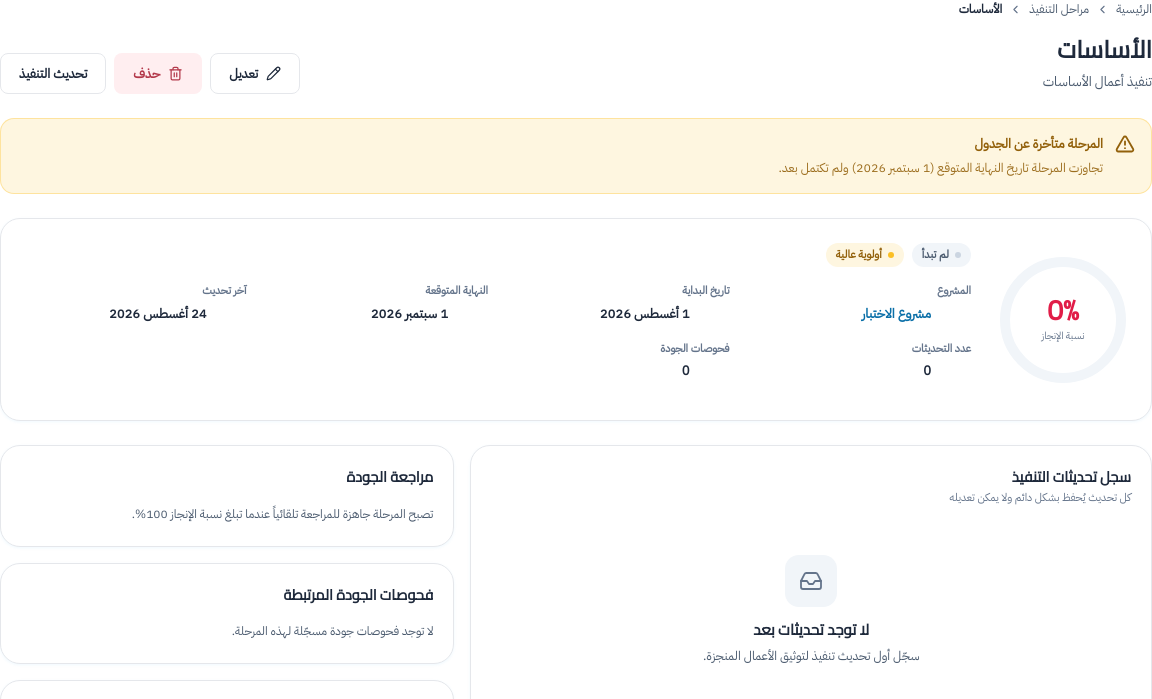
Test: StageDetailPage lifecycle controls › uses the parent project start date as the edit date lower boundary
The image size is (1152, 699).
Click the button "تعديل". click: [255, 74]
box: [210,53,300,94]
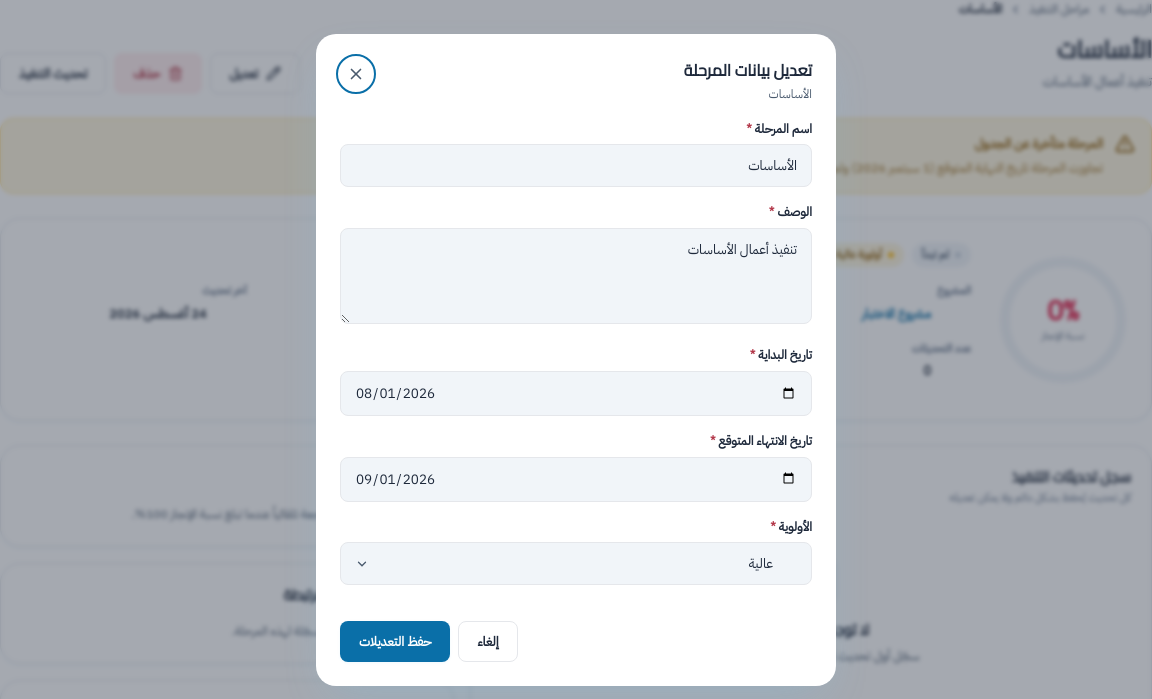
Type "2026-07-31" into the date field labelled "تاريخ البداية*". click: [576, 394]
box: [340,371,812,416]
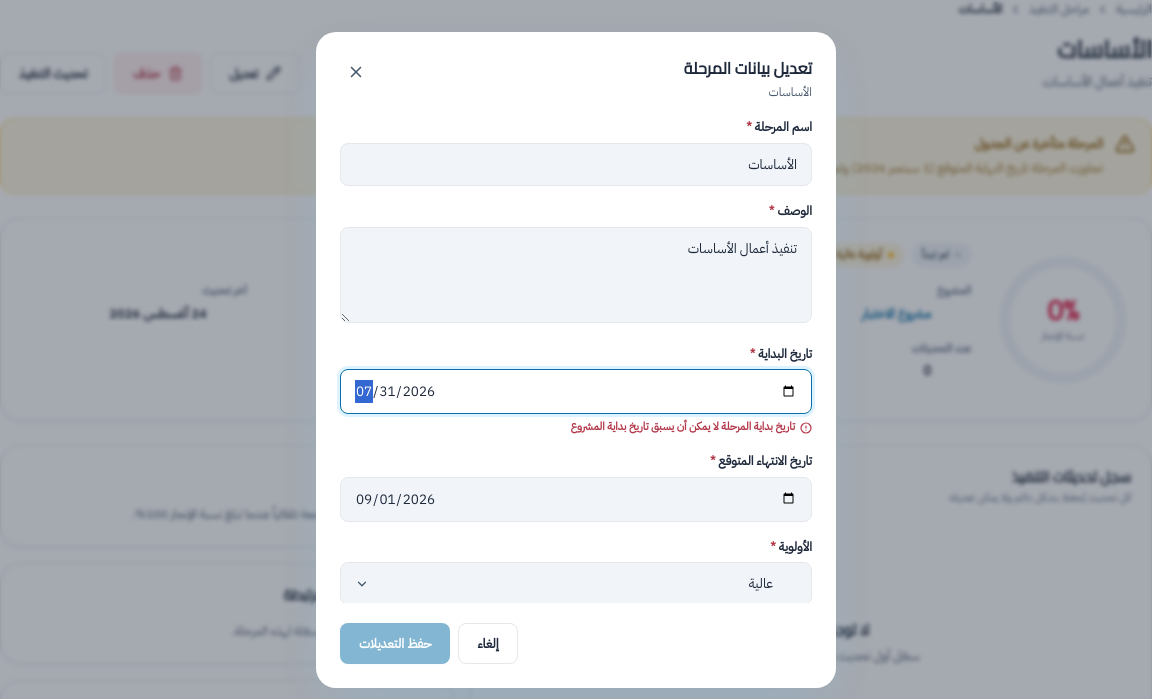
Now the button "حفظ التعديلات" is disabled, box [340,623,450,664]
Now the text "تاريخ بداية المرحلة لا يمكن أن يسبق تاريخ بداية المشروع" is shown, box [571,418,812,435]
